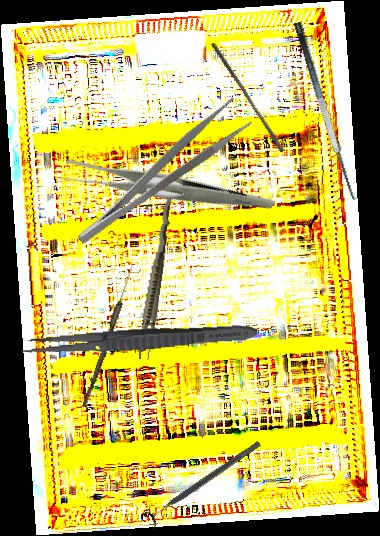Dressing Forceps: (57, 106, 276, 273), (63, 95, 255, 249), (20, 319, 258, 361)
Fixation Ring: (142, 434, 266, 531)
Pusher: (206, 42, 289, 153)
Spatula Surgical: (291, 17, 369, 203)
Surgical Spoon: (82, 264, 135, 409)
Tissue Forceps: (136, 172, 180, 361)
